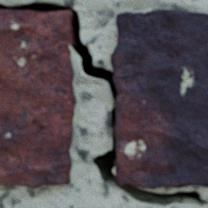brick: (111, 10, 207, 188), (0, 11, 76, 188)
crack: (0, 1, 207, 207)
